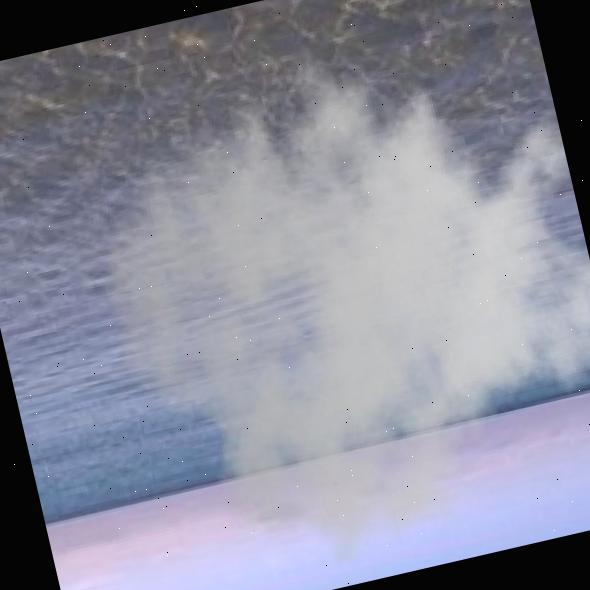smoke: (54, 0, 590, 590)
